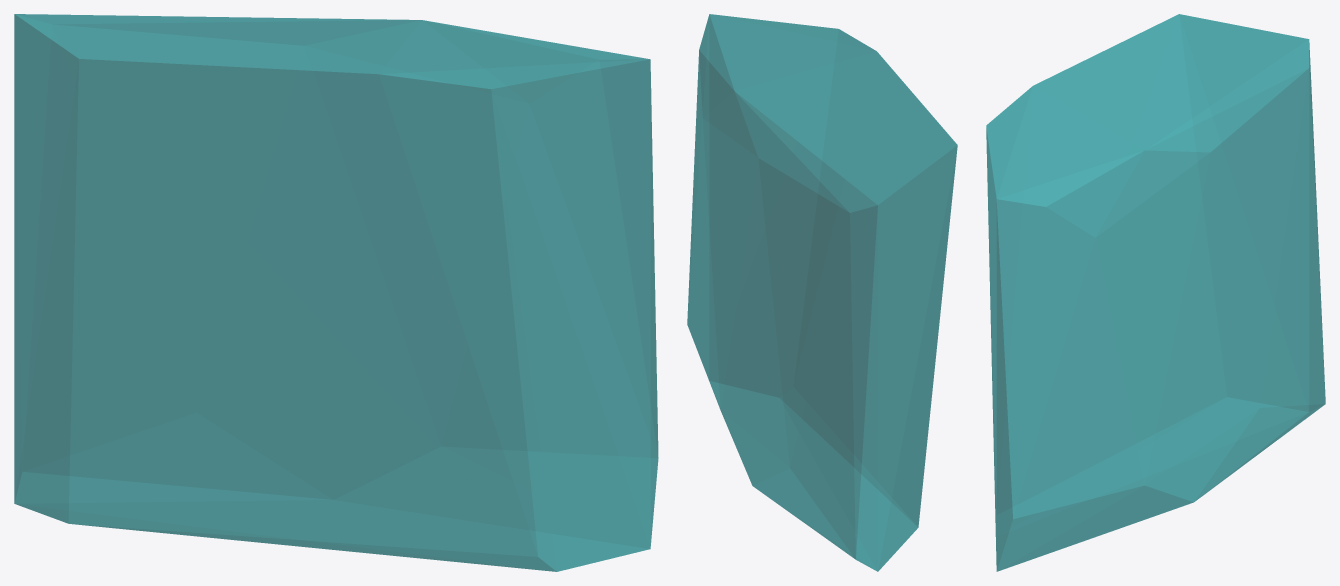
3 views of the same model, side by side, from view 1: azimuth 30°, elevation 25°; view 2: azimuth 150°, elevation 25°; view 3: azimuth 270°, elevation 25° (orthographic). The views are drawn at different scales.
Parts seen in each view (by area): view 1: Shape_IndexedFaceSet.026_Shape_IndexedFaceSet.11170; view 2: Shape_IndexedFaceSet.026_Shape_IndexedFaceSet.11170; view 3: Shape_IndexedFaceSet.026_Shape_IndexedFaceSet.11170.
Boxes of the visible parts, left/top/right/bottom form: Shape_IndexedFaceSet.026_Shape_IndexedFaceSet.11170: left=14, top=14, right=658, bottom=571; Shape_IndexedFaceSet.026_Shape_IndexedFaceSet.11170: left=687, top=14, right=957, bottom=571; Shape_IndexedFaceSet.026_Shape_IndexedFaceSet.11170: left=986, top=14, right=1325, bottom=571.
Bounding box in the file's own units: 0.0825 × 0.0867 × 0.0677.
